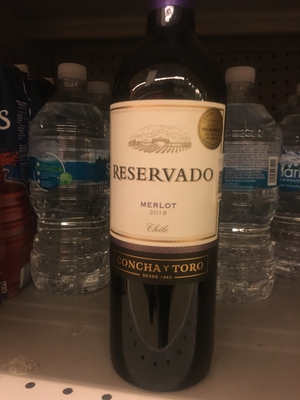reservado merlot: (98, 14, 247, 373)
